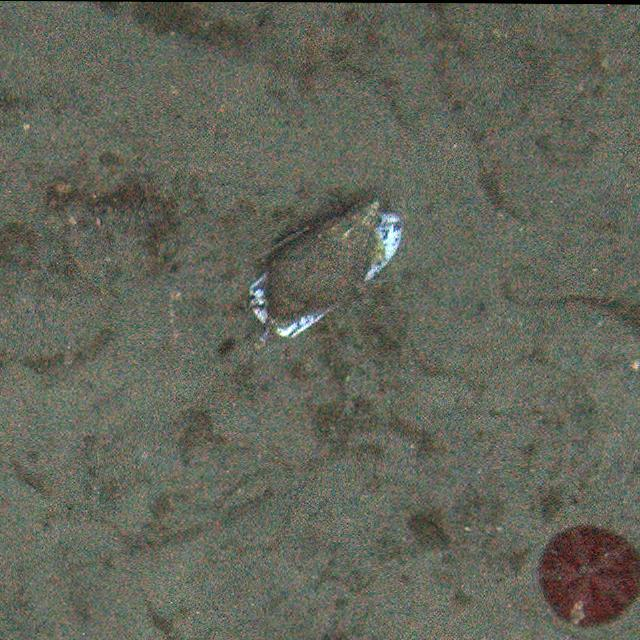whelk: (259, 198, 382, 324)
